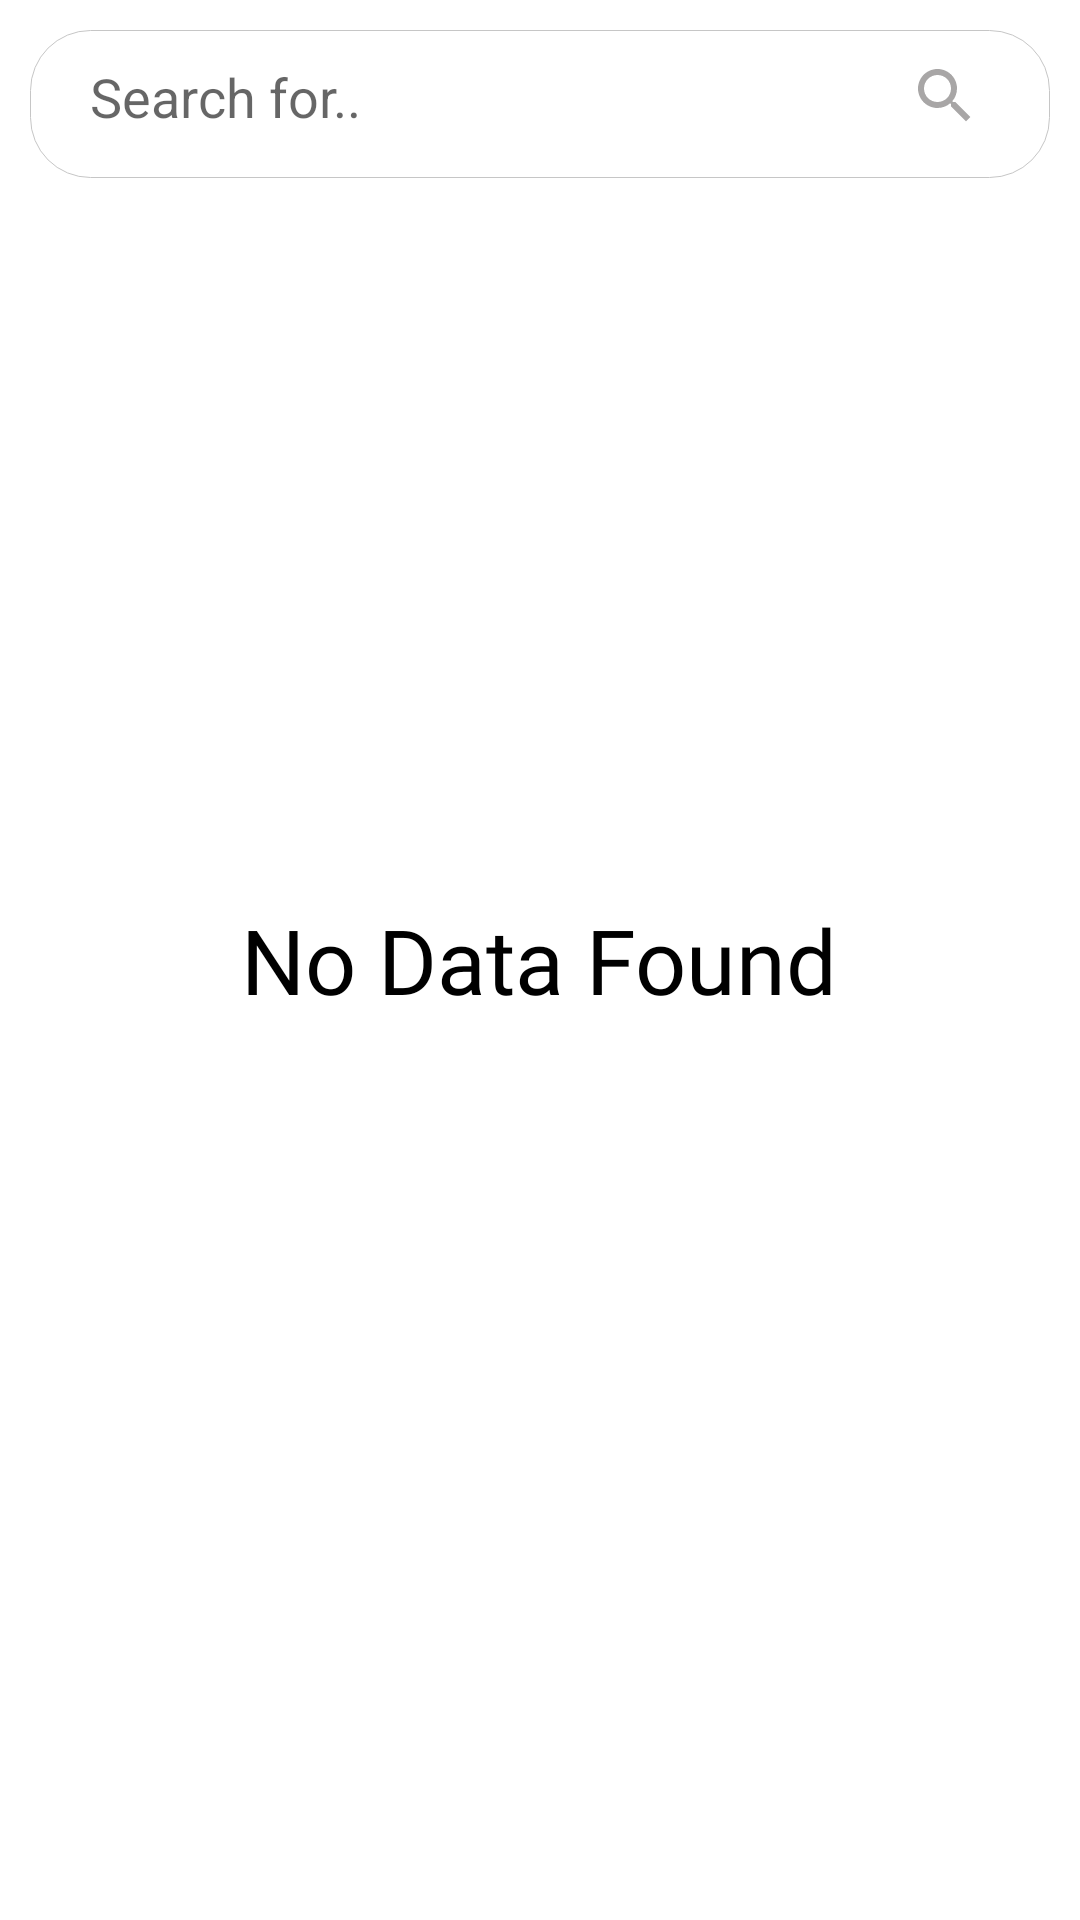

Icons on this 1080 x 1920 Android screen, each with its box as rect(x1, y1, x2, y2):
search: rect(918, 69, 970, 121)
